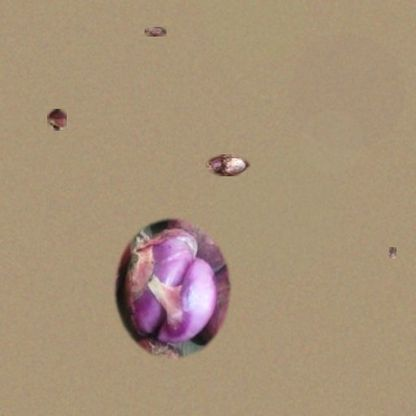damaged: (111, 214, 234, 362)
rotten: (206, 154, 250, 176), (145, 27, 167, 37), (389, 247, 396, 258)
sprouted: (47, 109, 67, 131)
